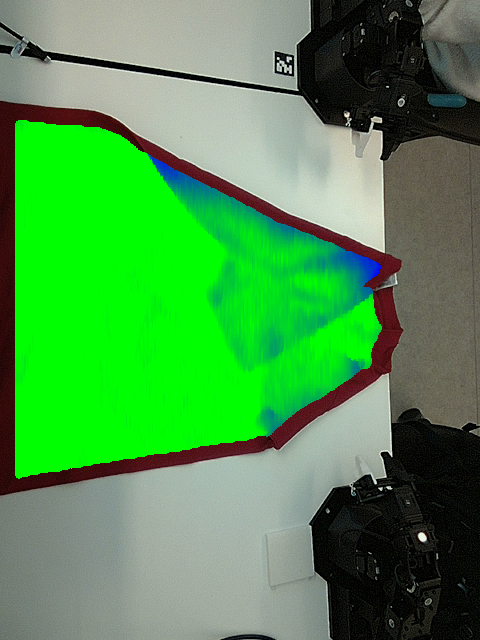V: (224, 326, 273, 378), (190, 273, 248, 314)
